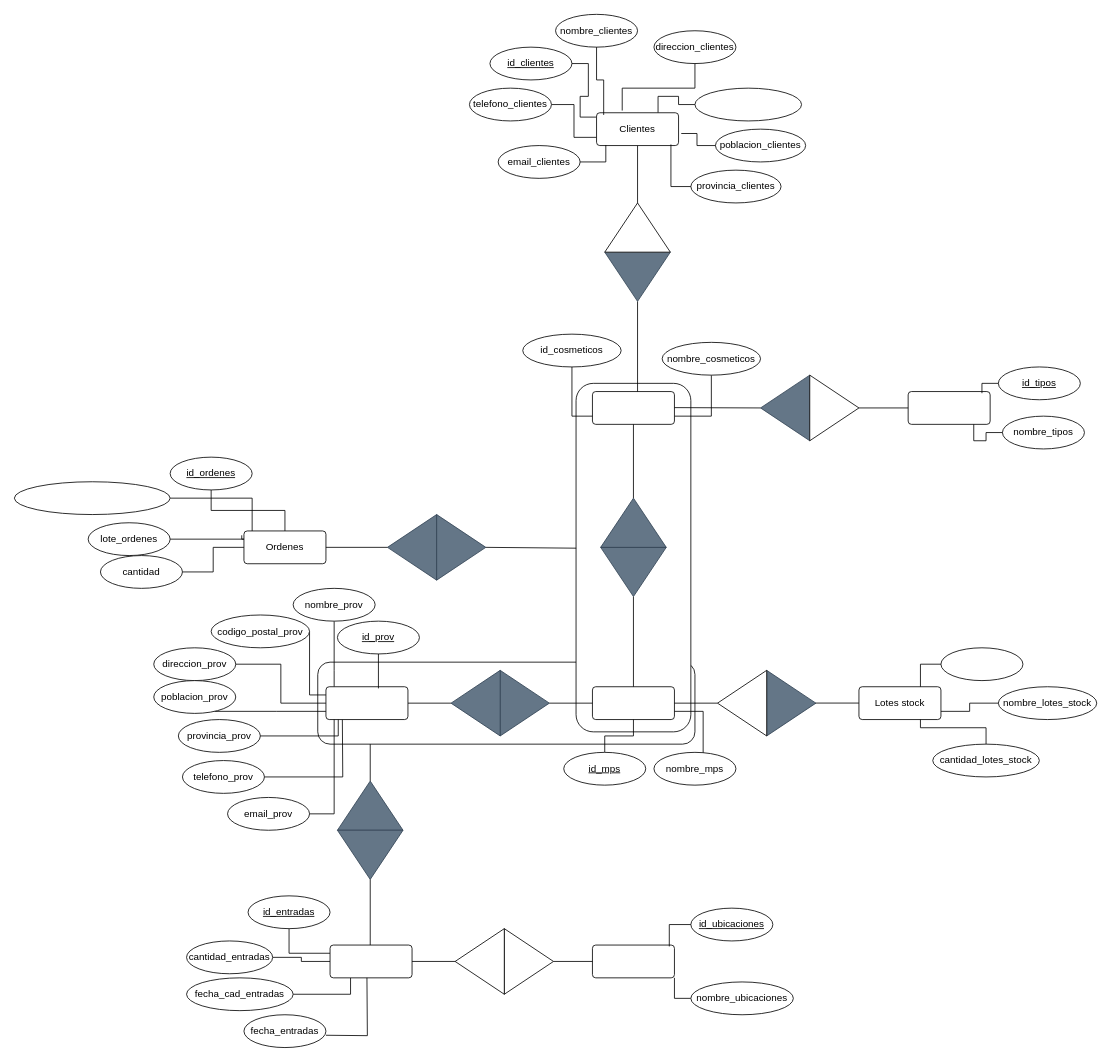
The diagram is 1111 pixels wide and 1062 high, and some of its shapes have lost their labels. The box of each missing label's shape, as (x1, y1, x2, y2) in pixels:
codigo_postal_clientes: (694, 87, 802, 121)
Cosmeticos: (592, 391, 674, 424)
Entradas: (329, 944, 412, 978)
fecha_cadudcidad_ordenes: (14, 481, 170, 515)
id_lotes_stock: (940, 647, 1023, 681)
Materias primas: (592, 686, 674, 720)
Proveedores: (325, 686, 408, 720)
Tipos: (907, 391, 990, 424)
Ubicaciones: (592, 944, 674, 978)
